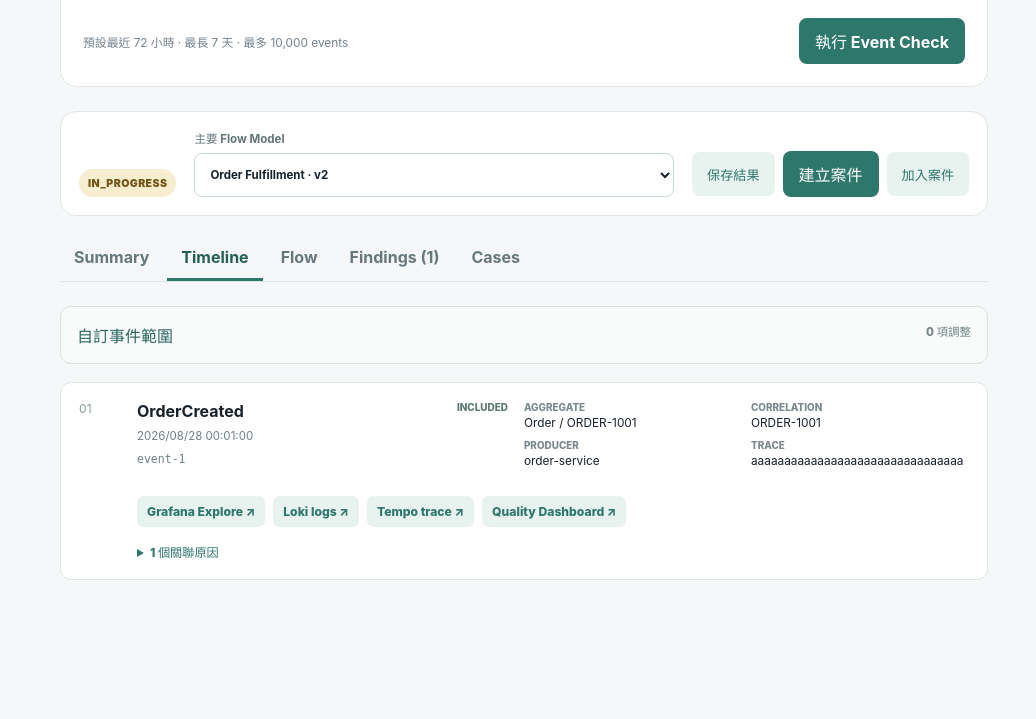
Test: Event Check workspace › records a custom exclusion reason in URL state and the next request
The image size is (1036, 719).
(page scrolled)
Expected: the text "OrderCreated" is shown, [137,401,244,421]
Click the heading "自訂事件範圍 0 項調整" at (125, 336), box [77,323,971,347]
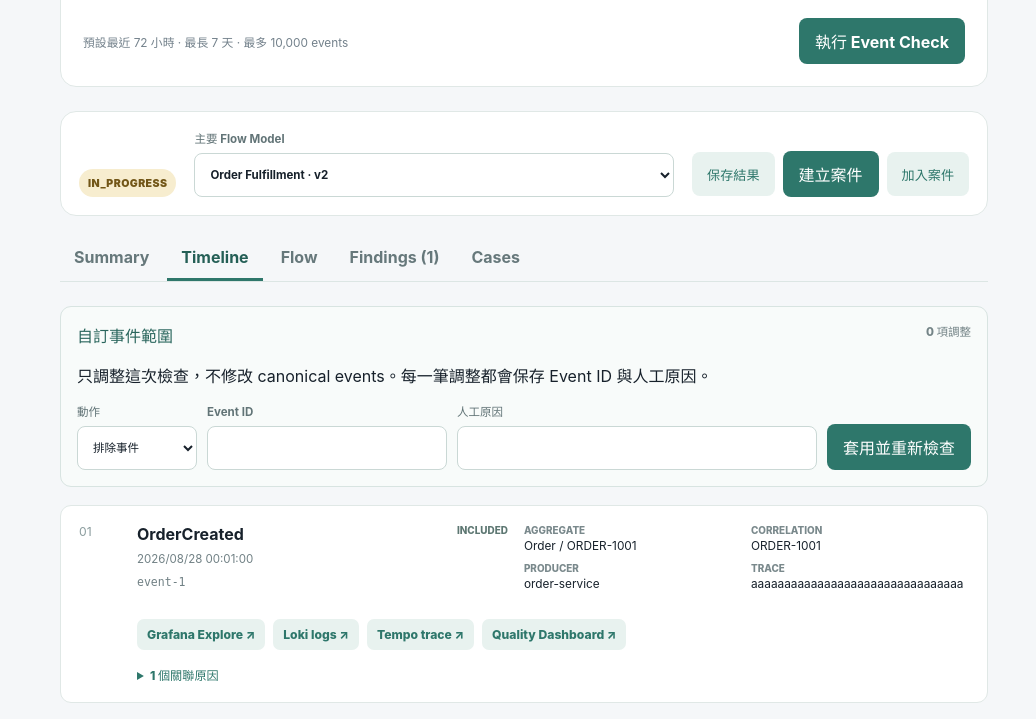
Type "event-1" into the field labelled "Event ID" at (327, 448), box [207,426,447,470]
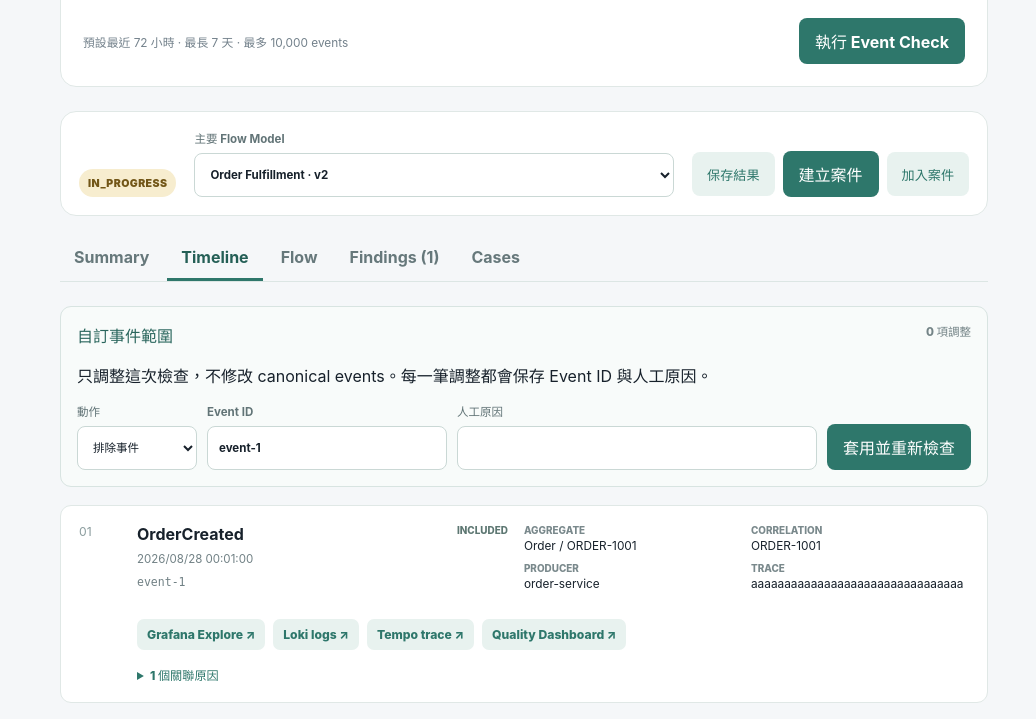
Type "排除已知重送事件" into the field labelled "人工原因" at (637, 448), box [457,426,817,470]
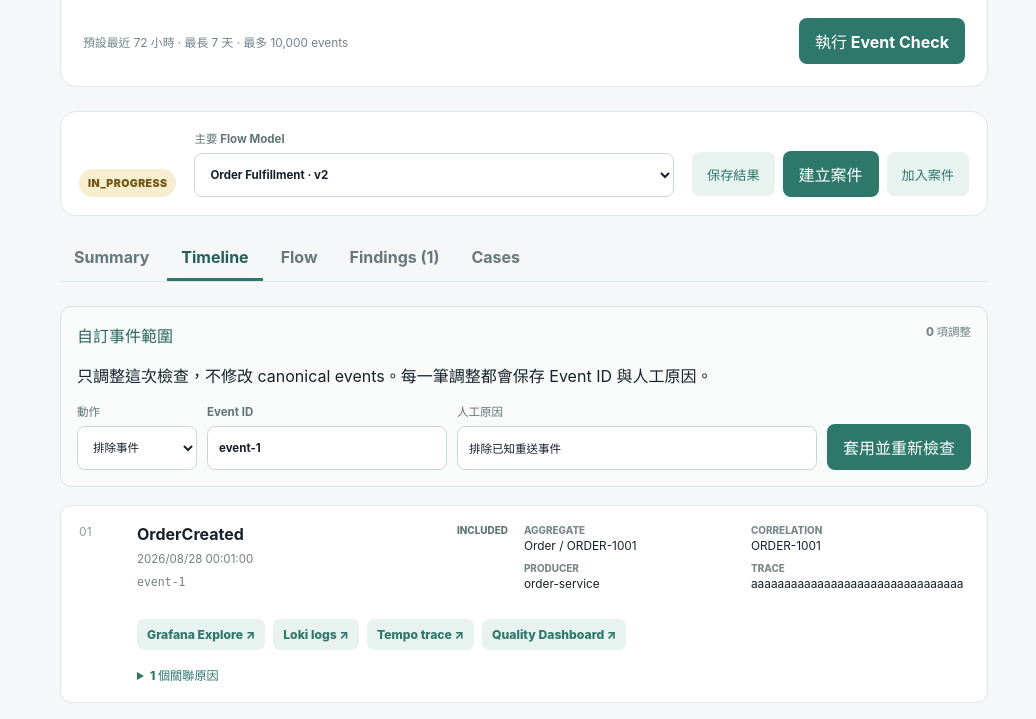
Click the button "套用並重新檢查" at (899, 447), box [827,424,971,470]
(page scrolled)
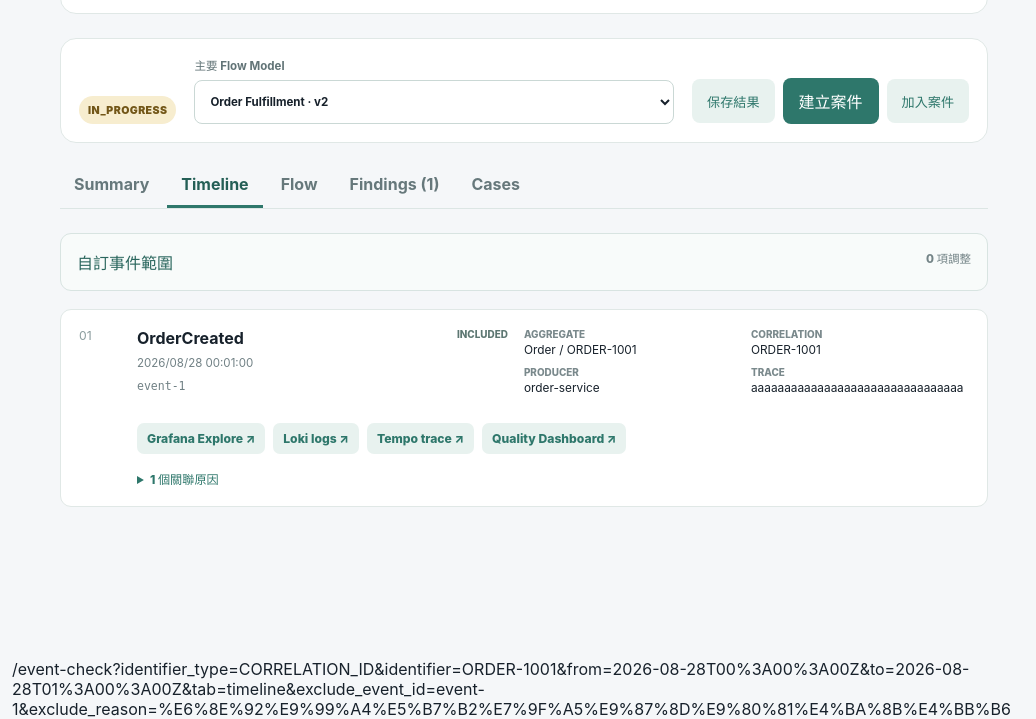
Expected: the text with test id "location" shows "exclude_event_id=event-1", [12,659,1011,718]
